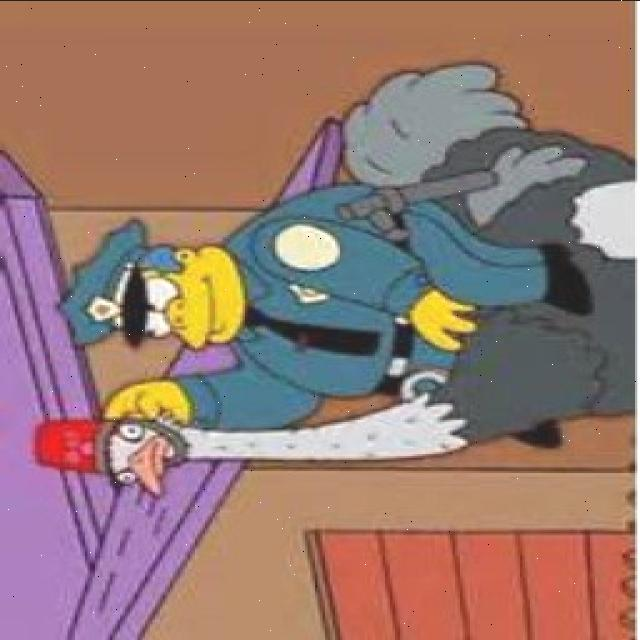Chief Wiggam: (58, 210, 252, 356)
